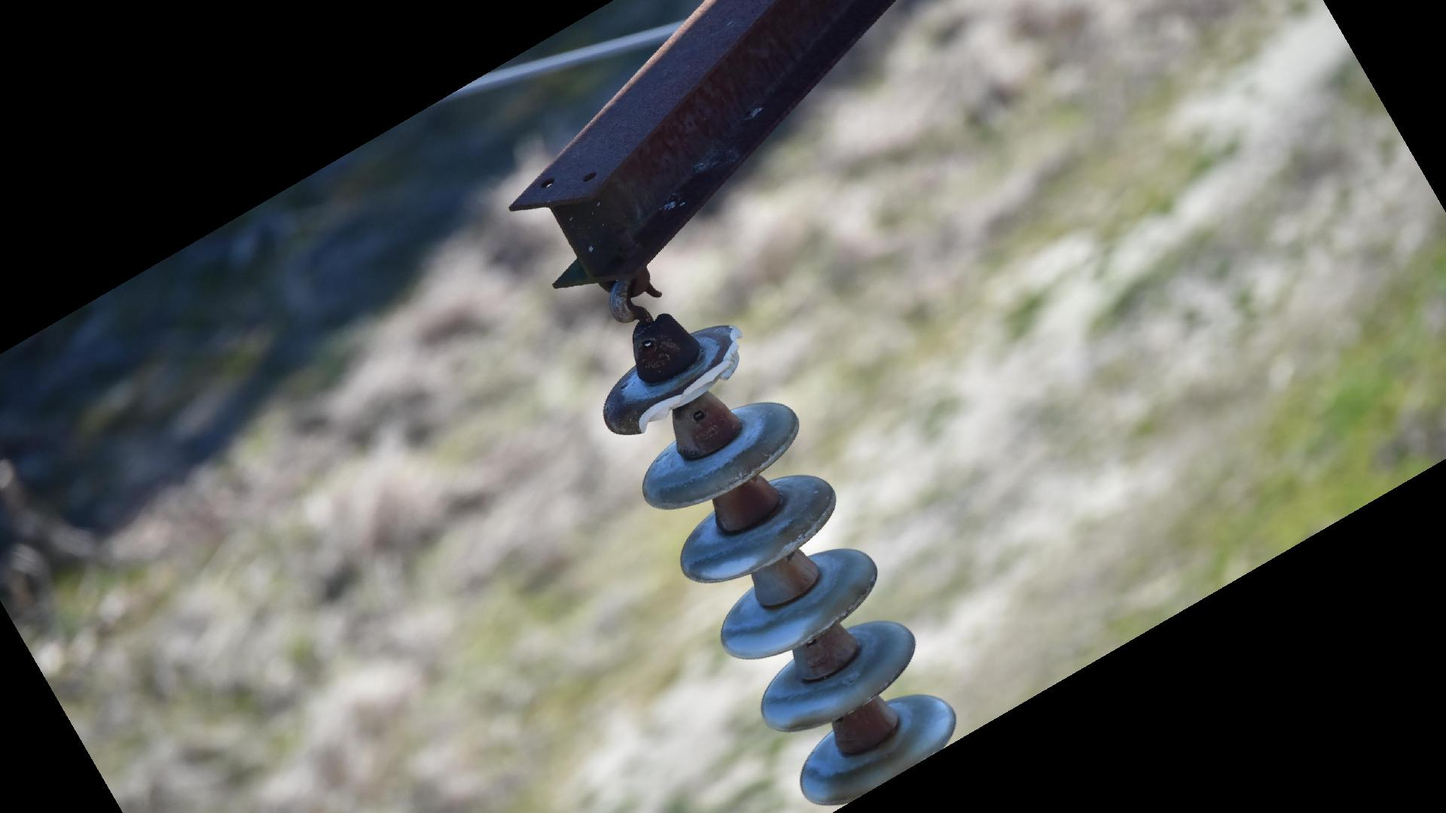insulator: (592, 318, 962, 813)
insulator_breakage: (631, 319, 746, 439)
